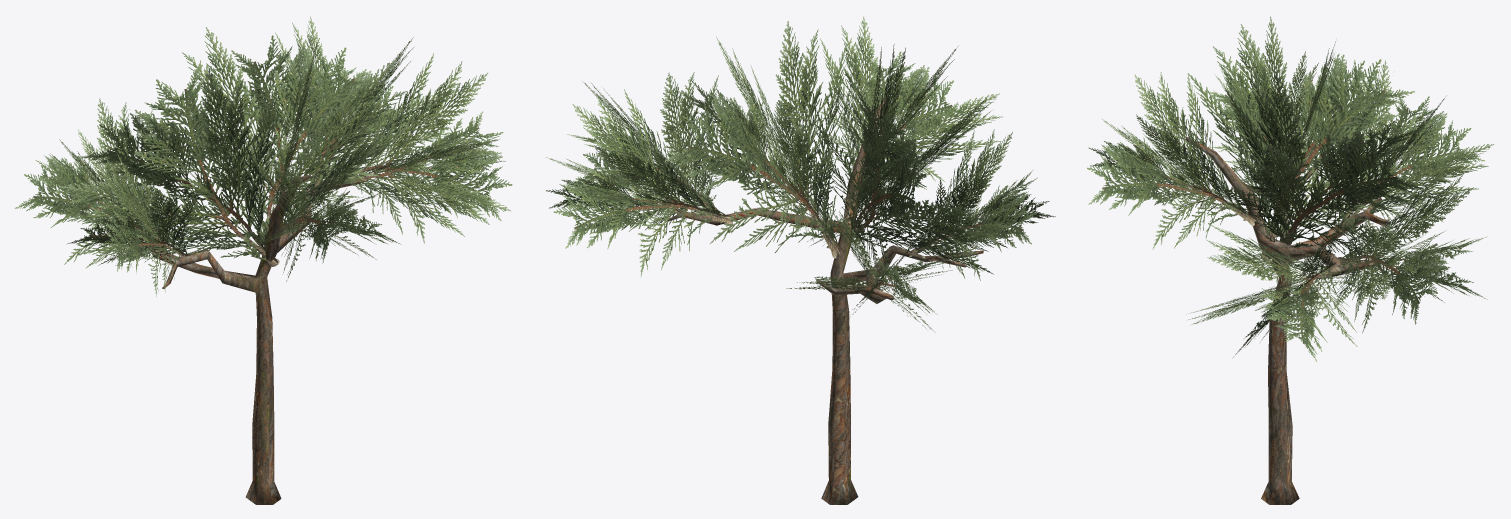
The model's file is tree_test.glb.
3 renders of one model, left to right at view 1: azimuth 30°, elevation 25°; view 2: azimuth 150°, elevation 25°; view 3: azimuth 270°, elevation 25°, orthographic. The views are drawn at different scales.
Parts seen in each view (by area): view 1: Cube.046; view 2: Cube.046; view 3: Cube.046.
Boxes of the visible parts, <box> form: Cube.046: <box>14,16,512,504</box>; Cube.046: <box>545,16,1055,504</box>; Cube.046: <box>1087,16,1494,504</box>.
Bounding box in the file's own units: 14.63 × 14.31 × 11.7.
2 materials, 2 textured.
